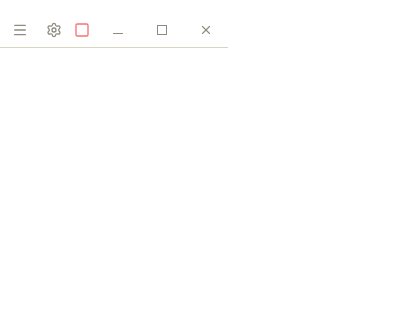
it: TitleBar — Hamburger menu › tb-14: hovering Help section shows About and Check for Updates
Click the button named "open menu".
click(20, 30)  # box x1=6 y1=16 x2=34 y2=44
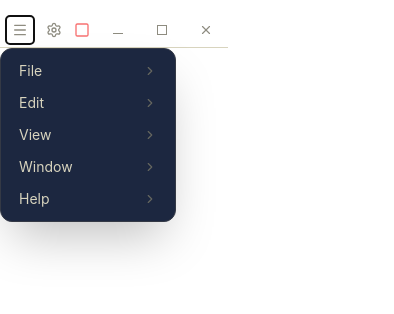
Hover over the button "Help".
mouse_move(88, 198)  # box x1=7 y1=182 x2=169 y2=214
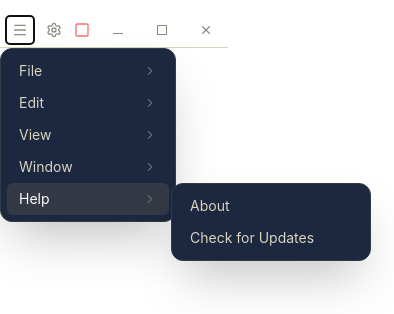
Expected: the text "About" is shown, x1=190 y1=196 x2=230 y2=216
Expected: the text "Check for Updates" is shown, x1=190 y1=228 x2=314 y2=248
